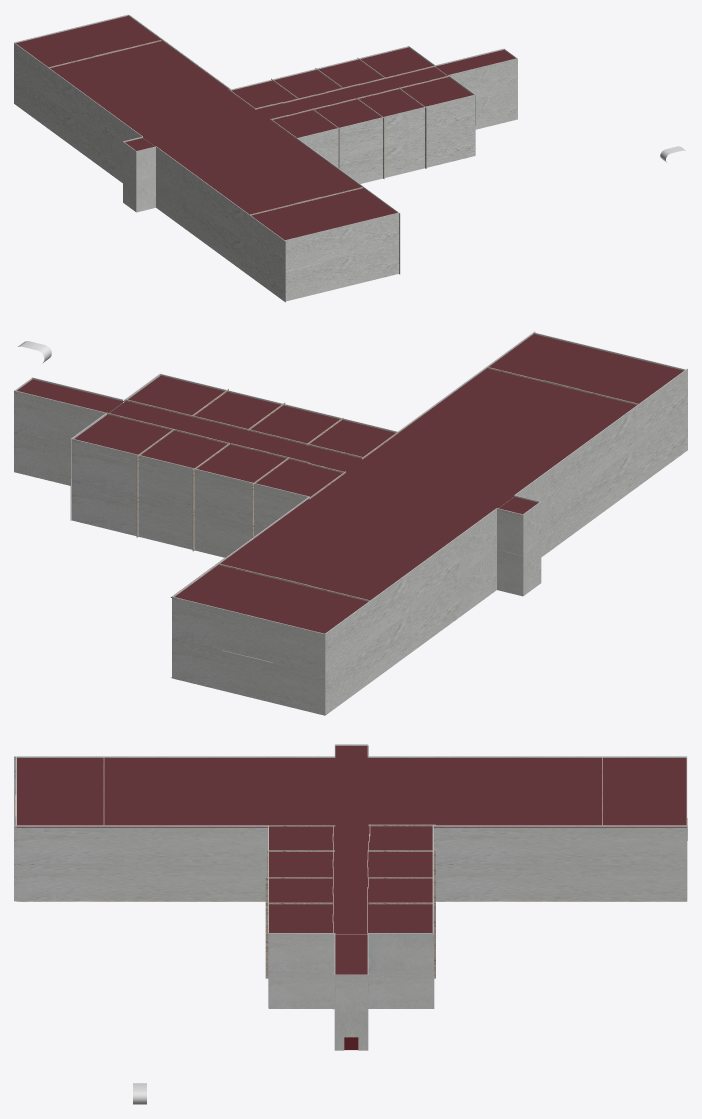
Rendered from Mall_V2.glb.
3 renders of one model, top to bottom at view 1: azimuth 30°, elevation 25°; view 2: azimuth 150°, elevation 25°; view 3: azimuth 270°, elevation 25°, orthographic. The views are drawn at different scales.
Visible parts, largest first — view 1: Plane.015, Plane.014, Plane.017, Plane.016, Cube.034, Cube.007, Cube.026, Cube.015, Cube.029, Cube.012, Cube.011, Cube.030 (+8 smaller); view 2: Plane.015, Plane.014, Plane.017, Plane.016, Cube.033, Cube.008, Cube.027, Cube.014, Cube.029, Cube.030, Cube.011, Cube.012 (+10 smaller); view 3: Plane.015, Plane.014, Plane.017, Plane.016, Cube.031, Cube.032, Cube.010, Cube.009, Cube.036, Cube.005, Cube.054, Cube.006 (+3 smaller).
Part boxes in pixels (x1,y1,x2,y2): Plane.015: (16, 15, 229, 117); Plane.014: (185, 139, 396, 240); Plane.017: (235, 47, 472, 137); Plane.016: (118, 90, 299, 166); Cube.034: (297, 95, 474, 161); Cube.007: (329, 126, 474, 183); Cube.026: (285, 212, 398, 270); Cube.015: (286, 243, 398, 301); Cube.029: (183, 166, 285, 271); Cube.012: (183, 197, 285, 302); Cube.011: (14, 73, 115, 177); Cube.030: (14, 42, 115, 146); Plane.015: (171, 498, 459, 633); Plane.014: (398, 334, 683, 469); Plane.017: (74, 375, 395, 495); Plane.016: (306, 433, 547, 534); Cube.033: (72, 438, 308, 526); Cube.008: (72, 479, 266, 557); Cube.027: (172, 596, 324, 674); Cube.014: (172, 637, 324, 715); Cube.029: (551, 368, 687, 509); Cube.030: (325, 535, 460, 674); Cube.011: (325, 575, 462, 715); Cube.012: (551, 409, 687, 549); Plane.015: (433, 758, 686, 827); Plane.014: (16, 758, 268, 827); Plane.017: (269, 827, 432, 933); Plane.016: (268, 757, 433, 828); Cube.031: (14, 825, 268, 863); Cube.032: (433, 825, 686, 863); Cube.010: (14, 863, 267, 901); Cube.009: (436, 863, 686, 901); Cube.036: (268, 933, 335, 971); Cube.005: (368, 971, 434, 1008); Cube.054: (367, 933, 433, 971); Cube.006: (269, 971, 334, 1008).
Size of the model in its own units: 95.78 by 12.36 by 96.01.
Materials: 7 (4 with a texture image).
